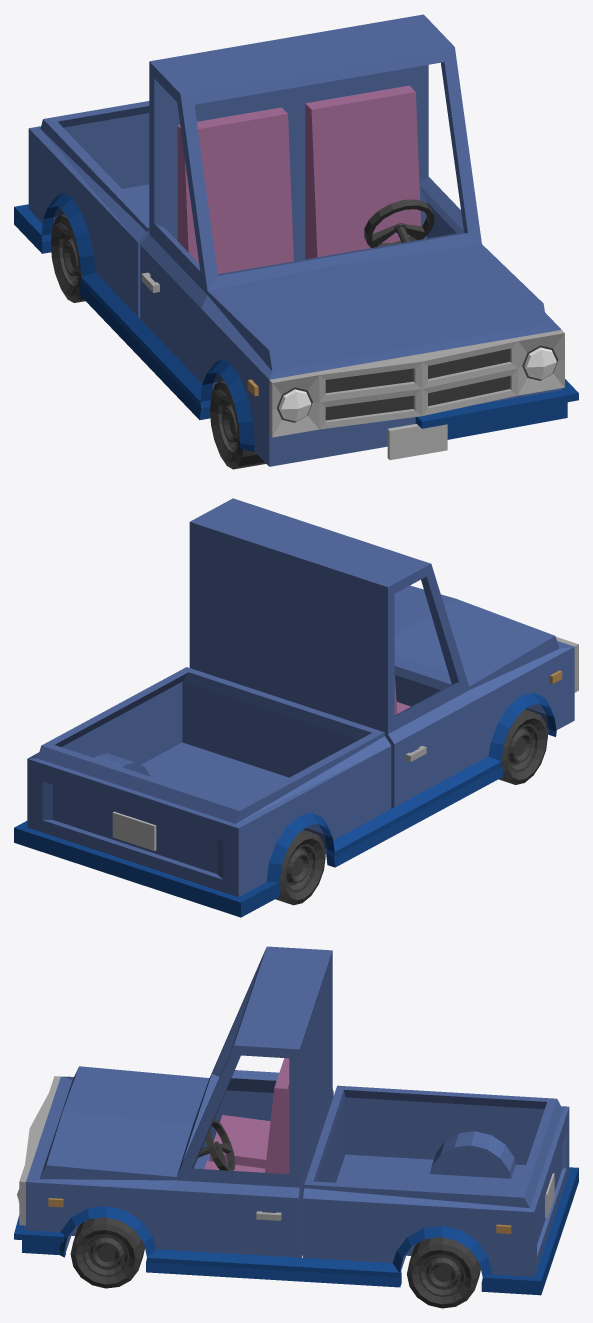
File: Carrr.fbx
3 views of the same model, one above another, from view 1: azimuth 30°, elevation 25°; view 2: azimuth 150°, elevation 25°; view 3: azimuth 270°, elevation 25° (orthographic). The views are drawn at different scales.
Parts seen in each view (by area): view 1: Cube; view 2: Cube; view 3: Cube.
Boxes of the visible parts, x1,y1,x2,y2 form: Cube: (14,14,578,469); Cube: (14,498,578,917); Cube: (14,946,578,1308).
Size of the model in its own units: 64.99 by 52.52 by 109.
